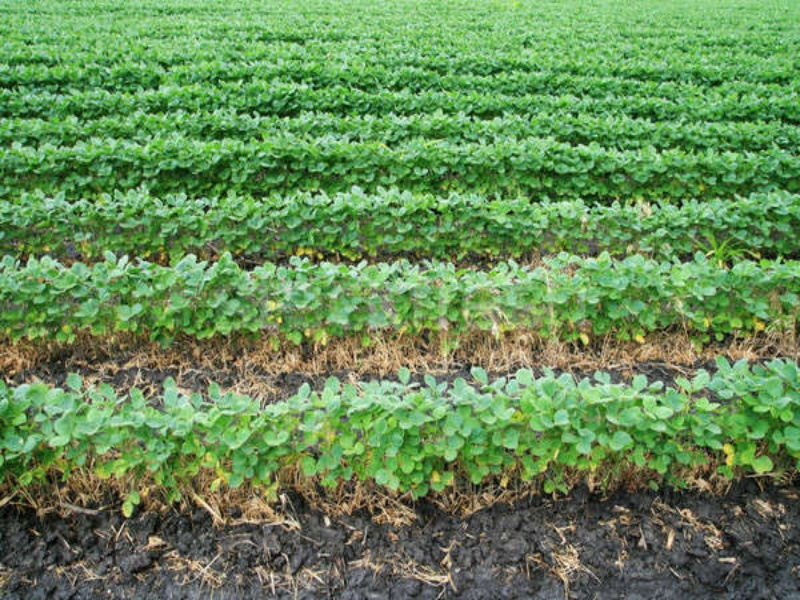soyabean: (7, 361, 800, 472), (9, 253, 800, 338), (1, 182, 800, 242), (2, 134, 800, 173)
